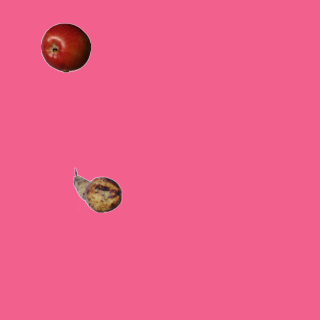Apple Braeburn: (40, 22, 90, 72)
Pear Abate: (72, 165, 122, 215)
